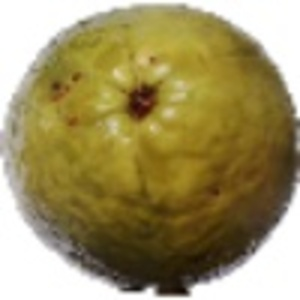goiaba: (10, 10, 293, 285)
